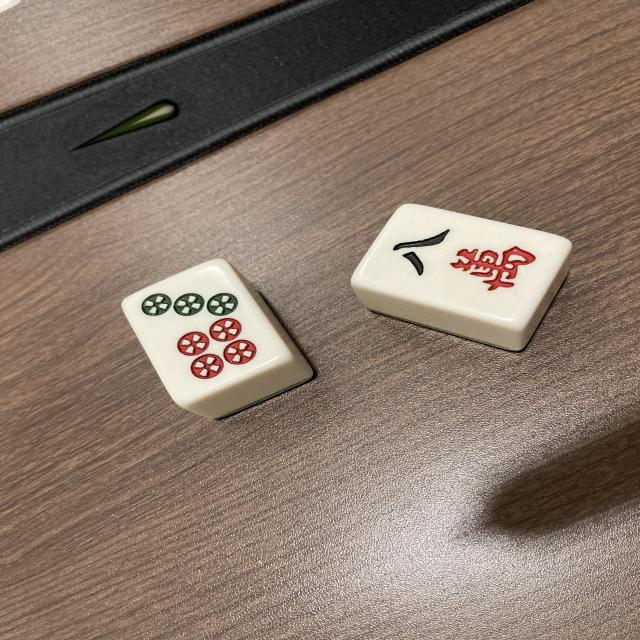m8: (354, 203, 569, 328)
t7: (126, 256, 293, 409)
